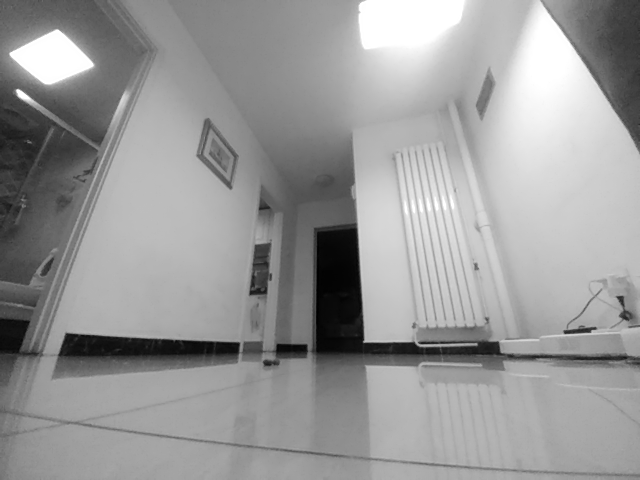pet feces: (263, 359, 282, 367)
